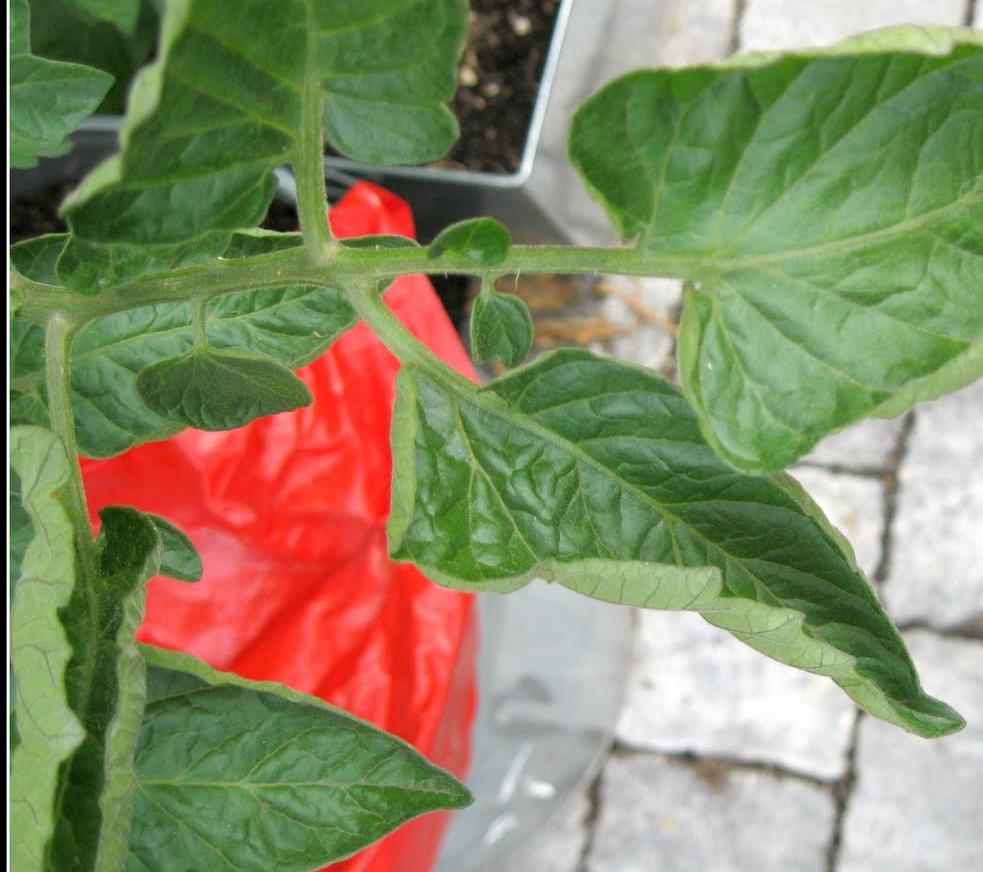Tomato leaf: (366, 333, 972, 790), (566, 39, 983, 475), (58, 0, 477, 252)
